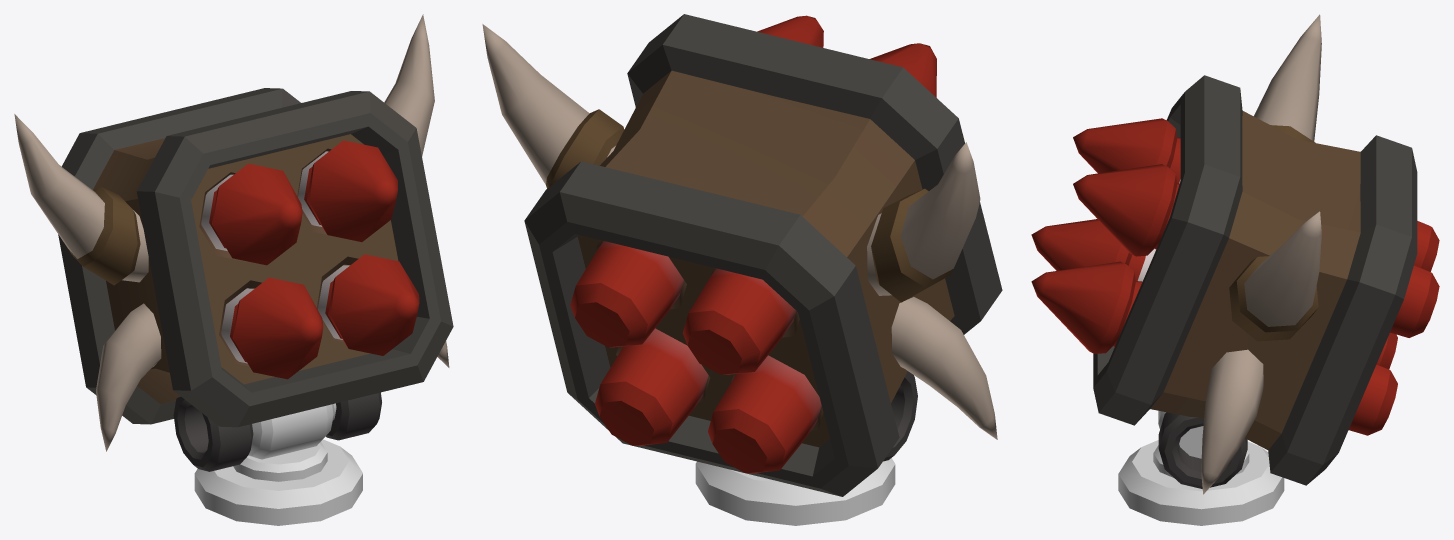
The model's file is Pierser_t_2_LP.fbx.
3 views of the same model, side by side, from view 1: azimuth 30°, elevation 25°; view 2: azimuth 150°, elevation 25°; view 3: azimuth 270°, elevation 25° (orthographic). The views are drawn at different scales.
Parts seen in each view (by area): view 1: Pierser_t_2, Pierser_t_2_Base; view 2: Pierser_t_2, Pierser_t_2_Base; view 3: Pierser_t_2, Pierser_t_2_Base.
Boxes of the visible parts, <box> form: Pierser_t_2: <box>14,14,453,471</box>; Pierser_t_2_Base: <box>194,403,362,525</box>; Pierser_t_2: <box>482,14,1002,496</box>; Pierser_t_2_Base: <box>695,458,895,525</box>; Pierser_t_2: <box>1031,14,1439,494</box>; Pierser_t_2_Base: <box>1118,410,1284,525</box>.
Size of the model in its own units: 165 by 148 by 144.
